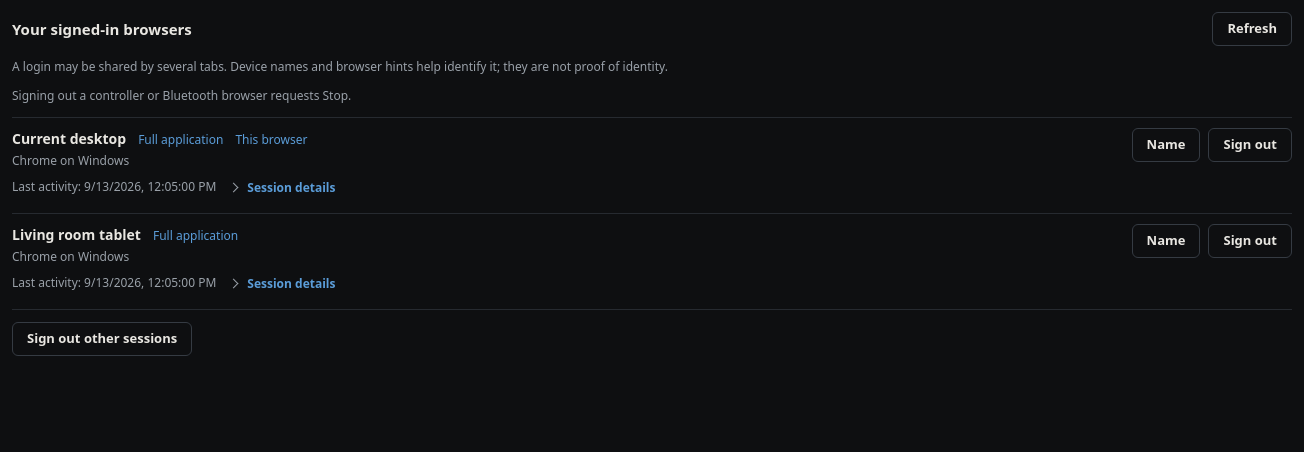
Test: own login management › shows backend session facts and permits naming without controller ownership
Expected: the text "This browser" is shown, [235,131,308,149]
Click the button with aria-label "Name this browser" at (1166, 241), box [1132,224,1200,258]
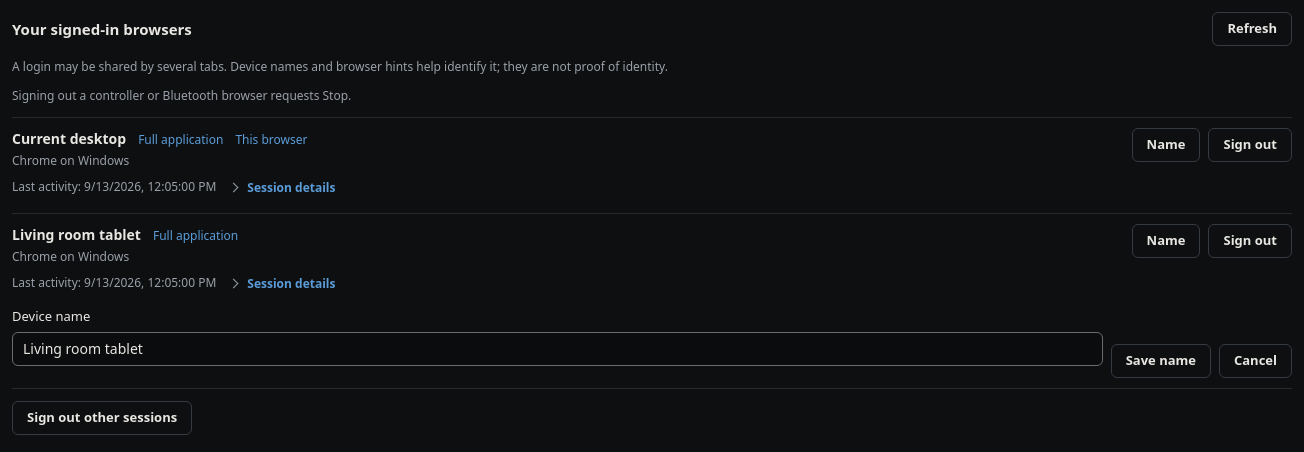
Replace the text in the field labelled "Device name" with "My tablet" at (557, 349), box [12,332,1103,366]
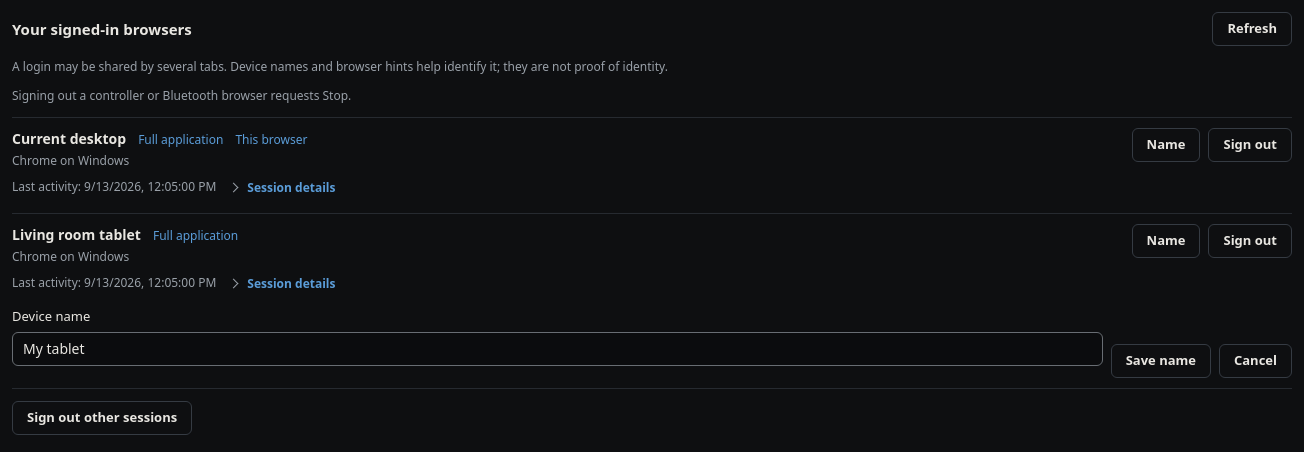
Click the button "Save name" at (1161, 361), box [1111,344,1211,378]
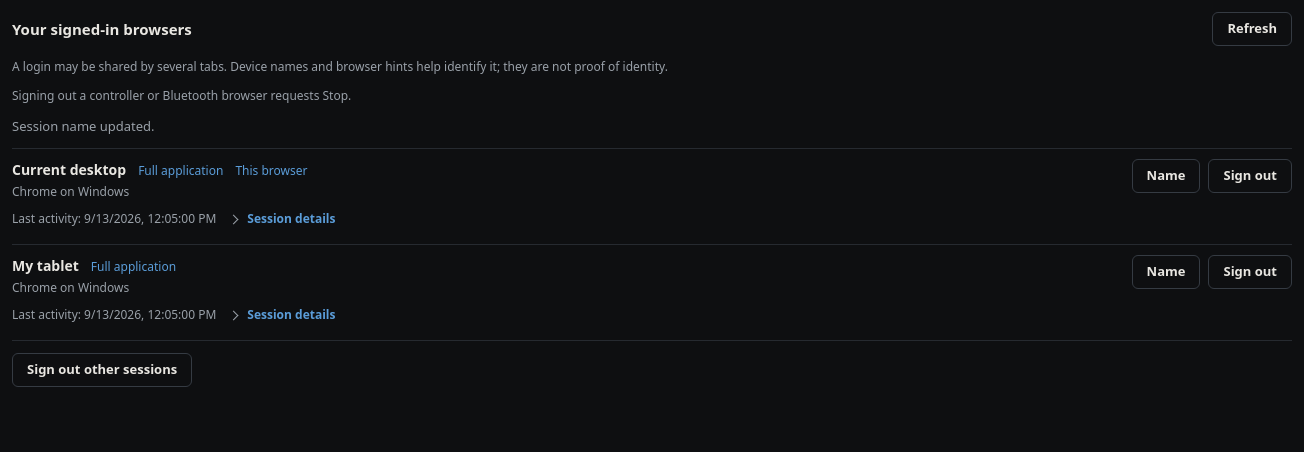
Result: the text "Session name updated." is shown at [12,117,155,135]
Result: the text "My tablet" is shown at [12,255,79,276]
